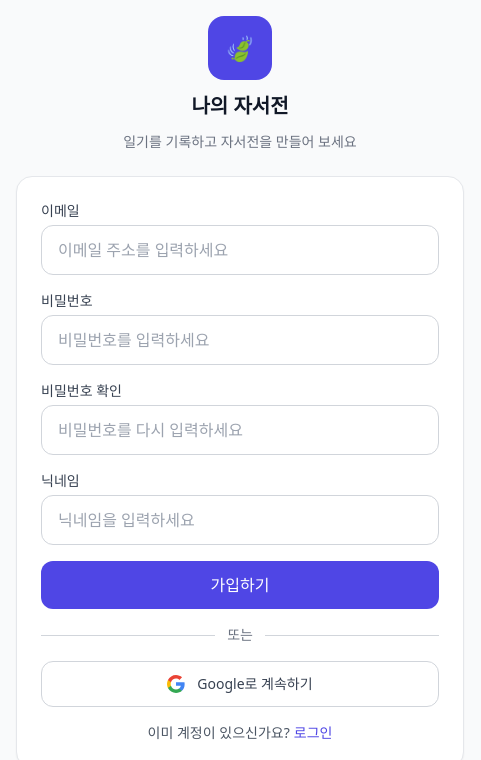
Scenario: SignupPage (리디자인) › validateForm 유효성 검증 › should show error-message when email is empty and form is submitted
This screenshot has width=481, height=760.
Note: Act — submit without filling any field
Click the button with test id "submit-button" at [240, 585], box [41,561,439,609]
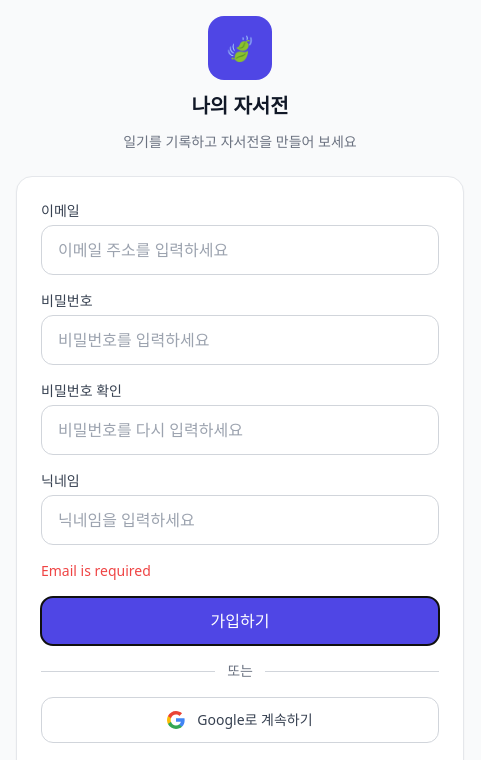
Result: the message "Email is required" is shown at [41,561,151,580]
